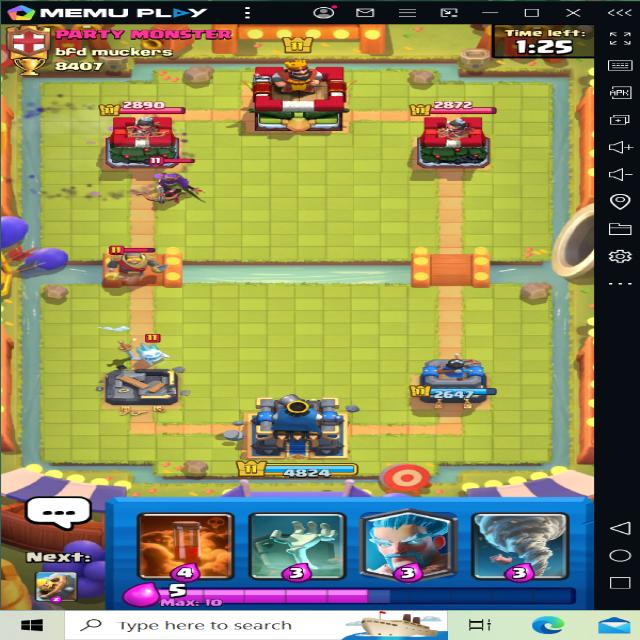archer-queen: (130, 150, 208, 208)
ice-spirit: (132, 334, 180, 369)
knight: (92, 234, 177, 291)
